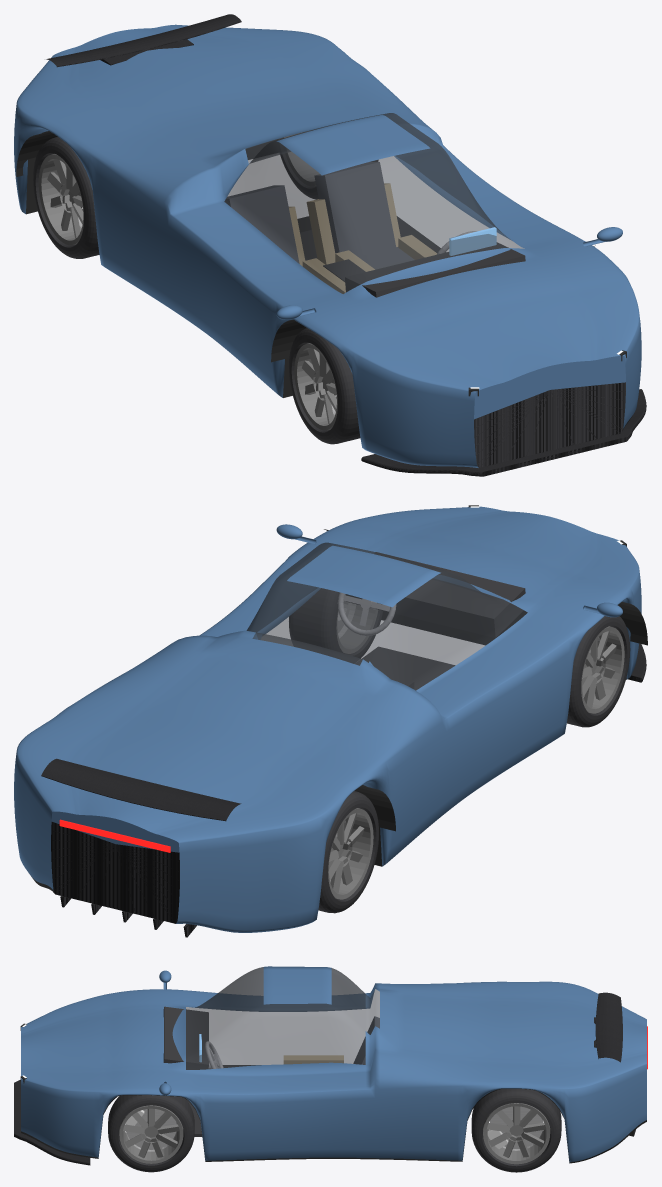
File: pininfarina-battista.glb
3 renders of one model, top to bottom at view 1: azimuth 30°, elevation 25°; view 2: azimuth 150°, elevation 25°; view 3: azimuth 270°, elevation 25°, orthographic. The views are drawn at different scales.
Visible parts, largest first — view 1: Body_PrimaryPaint, Glass_Windows, Carbon_Exterior, Interior_Seats, Interior_SeatBolsters, Tire_FR, Rim_RR, Tire_RR, Rim_FR, Interior_Dashboard, WheelWells, Underbody (+1 smaller); view 2: Body_PrimaryPaint, Glass_Windows, Carbon_Exterior, Interior_Dashboard, Rim_RR, Rim_FR, Tire_FL, Tire_FR, Tire_RR, Interior_Tub, WheelWells, Underbody (+3 smaller); view 3: Body_PrimaryPaint, Glass_Windows, Tire_RL, Tire_FL, Carbon_Exterior, Rim_RL, Rim_FL, Interior_Dashboard, Underbody, BrakeDisc_RL, BrakeDisc_FL, Interior_SeatBolsters (+2 smaller).
Part boxes in pixels (box(x1,y1,x2,y2)): Body_PrimaryPaint: box(14, 24, 641, 467); Glass_Windows: box(224, 113, 524, 293); Carbon_Exterior: box(46, 14, 646, 476); Interior_Seats: box(224, 162, 414, 269); Interior_SeatBolsters: box(289, 183, 436, 293); Tire_FR: box(289, 328, 360, 444); Rim_RR: box(38, 154, 83, 245); Tire_RR: box(33, 137, 99, 258); Rim_FR: box(294, 343, 337, 430); Interior_Dashboard: box(345, 242, 525, 297); WheelWells: box(16, 131, 595, 362); Underbody: box(26, 131, 631, 428); Body_PrimaryPaint: box(14, 506, 641, 932); Glass_Windows: box(246, 542, 527, 690); Carbon_Exterior: box(41, 643, 646, 937); Interior_Dashboard: box(346, 552, 525, 637); Rim_RR: box(328, 808, 373, 899); Rim_FR: box(581, 626, 624, 713); Tire_FL: box(289, 588, 382, 658); Tire_FR: box(567, 616, 630, 727); Tire_RR: box(318, 791, 378, 913); Interior_Tub: box(362, 646, 455, 690); WheelWells: box(324, 529, 647, 831); Underbody: box(31, 610, 626, 893); Body_PrimaryPaint: box(21, 966, 646, 1162); Glass_Windows: box(186, 967, 379, 1069); Tire_RL: box(471, 1089, 561, 1172); Tire_FL: box(108, 1095, 194, 1172); Carbon_Exterior: box(14, 992, 635, 1165); Rim_RL: box(483, 1103, 550, 1164); Rim_FL: box(119, 1105, 183, 1163); Interior_Dashboard: box(163, 1006, 208, 1069); Underbody: box(21, 1088, 646, 1163); BrakeDisc_RL: box(490, 1106, 543, 1150); BrakeDisc_FL: box(126, 1109, 176, 1151); Interior_SeatBolsters: box(283, 1055, 343, 1064).
Size of the model in its own units: 2.28 by 1.21 by 5.03.
Materials: 15 (2 with a texture image).
